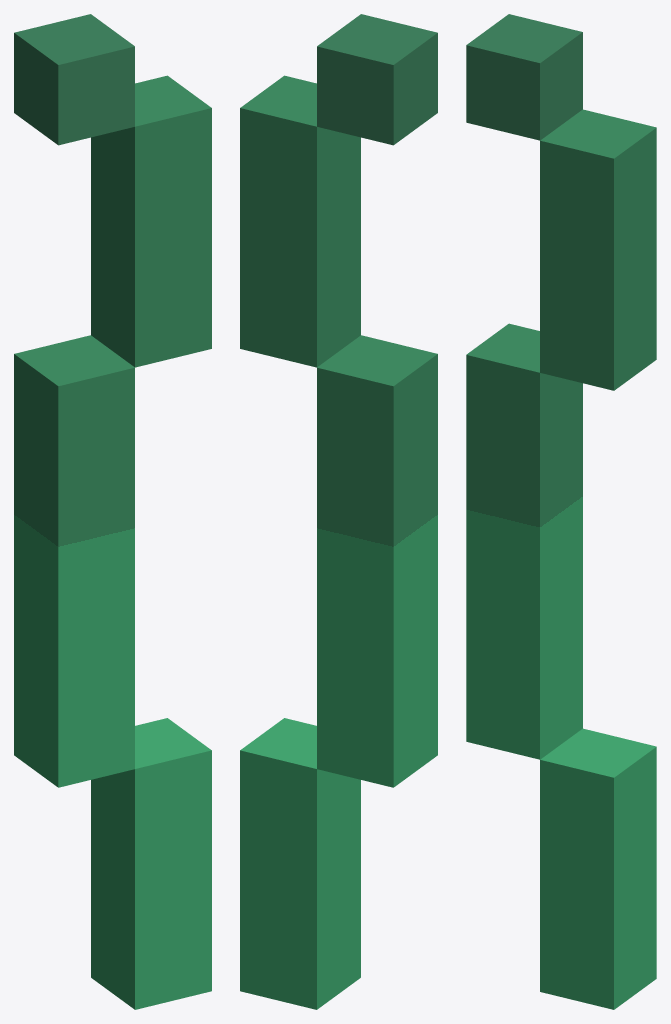
The model's file is vine8.fbx.
3 renders of one model, left to right at view 1: azimuth 30°, elevation 25°; view 2: azimuth 150°, elevation 25°; view 3: azimuth 330°, elevation 25°, orthographic. The views are drawn at different scales.
Parts seen in each view (by area): view 1: vine8; view 2: vine8; view 3: vine8.
Part boxes in pixels (box(x1,y1,x2,y2)): vine8: box(14, 14, 211, 1009); vine8: box(240, 14, 437, 1009); vine8: box(466, 14, 656, 1009).
Bounding box in the file's own units: 2 × 12 × 1.
Materials: 1 (1 with a texture image).
